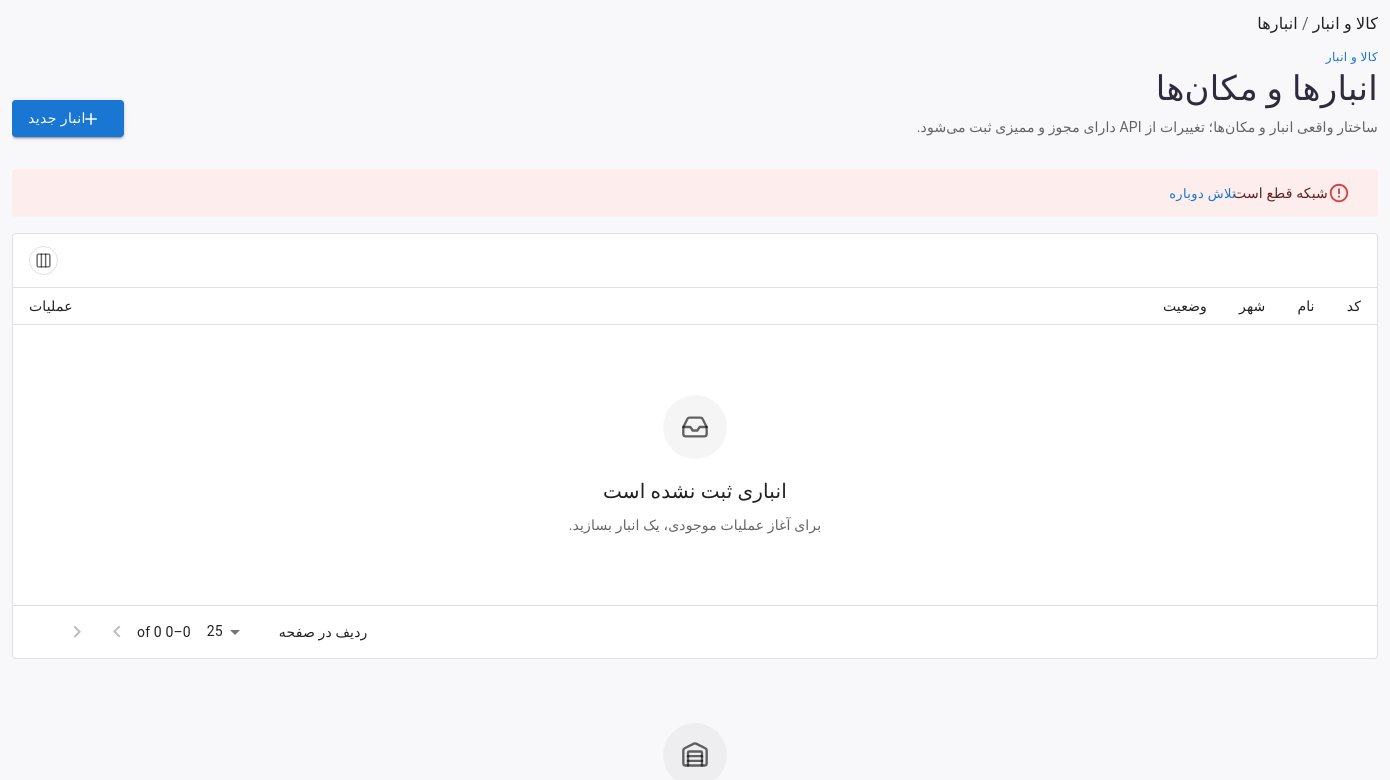
WarehousesView › shows failure and retries a bounded list request
Check: the text "شبکه قطع است" is shown, box [1233,185,1328,201]
Click the button "تلاش دوباره".
click(1203, 194)  # box [1164,179,1241,210]
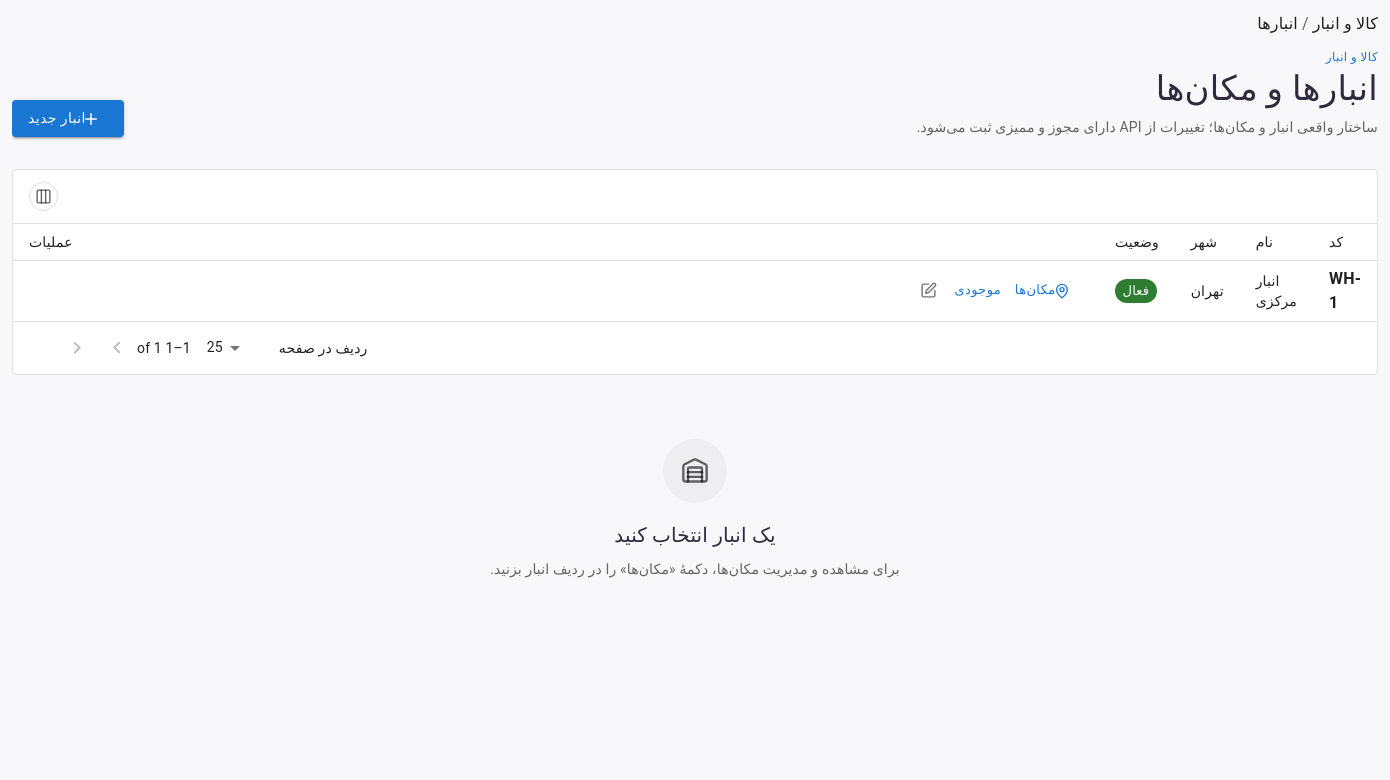
Check: the text "انبار مرکزی" is shown, box [1240,261,1313,322]
